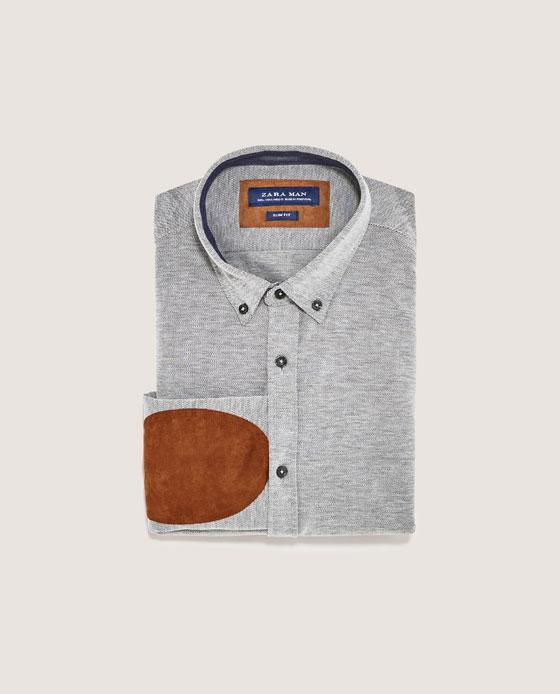teeshirt: (123, 139, 429, 563)
